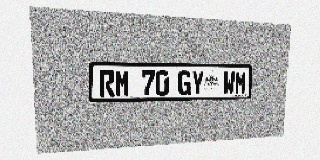0: (155, 70, 169, 96)
7: (141, 70, 155, 96)
G: (178, 70, 191, 95)
M: (115, 70, 130, 97), (234, 71, 247, 94)
R: (99, 70, 115, 97)
W: (223, 71, 235, 94)
Y: (191, 71, 204, 95)
